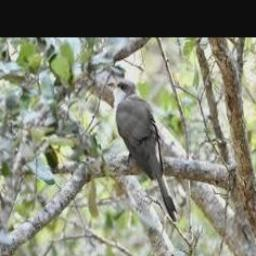Cuckoo: (108, 80, 177, 222)
